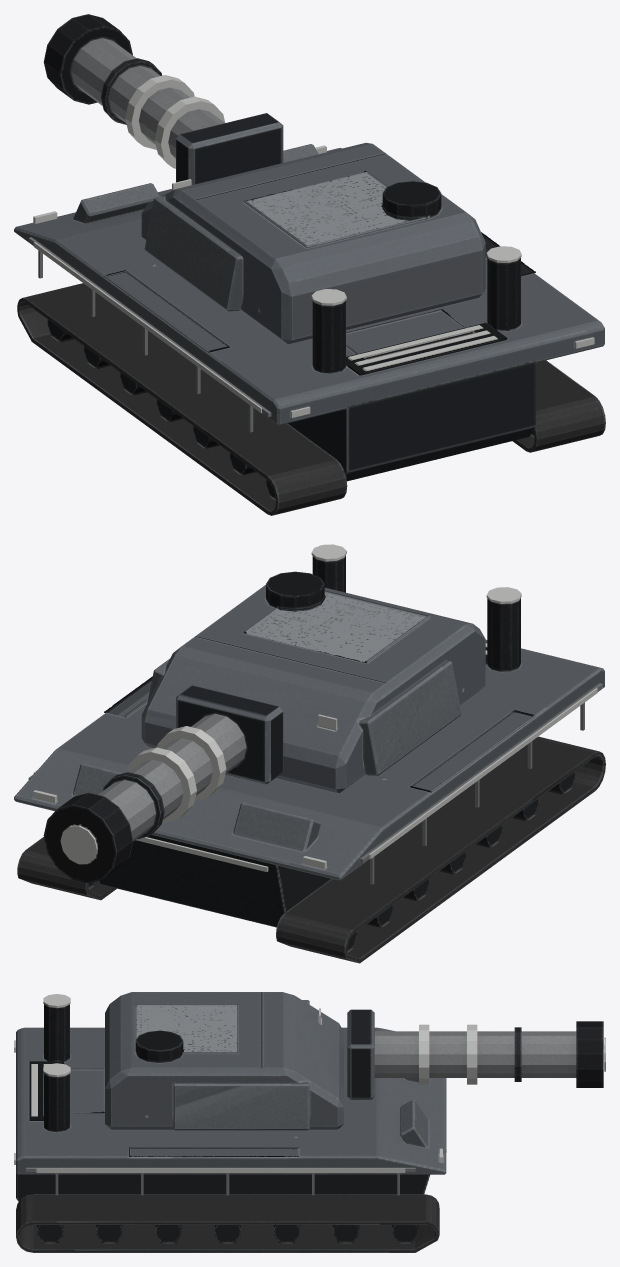
The model's file is chs_tzar.fbx.
The picture shows the model from 3 angles, top to bottom: view 1: azimuth 30°, elevation 25°; view 2: azimuth 150°, elevation 25°; view 3: azimuth 270°, elevation 25°; orthographic projection. The views are drawn at different scales.
Parts seen in each view (by area): view 1: base_bar, turret_bar, trackL_bar, trackR_bar, base_glow_running_bar, turret_glow_power_bar, base_glow_power_bar; view 2: turret_bar, base_bar, trackL_bar, turret_glow_power_bar, base_glow_running_bar, trackR_bar, turret_glow_weapon_bar, base_glow_power_bar; view 3: turret_bar, base_bar, trackR_bar, base_glow_running_bar, turret_glow_power_bar, base_glow_power_bar.
Part boxes in pixels (x1,y1,x2,y2): base_bar: [14, 144, 604, 481]; turret_bar: [43, 14, 485, 344]; trackL_bar: [17, 283, 347, 515]; trackR_bar: [512, 360, 605, 452]; base_glow_running_bar: [33, 242, 594, 417]; turret_glow_power_bar: [125, 75, 225, 168]; base_glow_power_bar: [311, 246, 521, 305]; turret_bar: [43, 571, 485, 883]; base_bar: [14, 555, 604, 927]; trackL_bar: [276, 736, 605, 963]; turret_glow_power_bar: [127, 726, 226, 822]; base_glow_running_bar: [33, 643, 597, 871]; trackR_bar: [17, 837, 116, 900]; turret_glow_weapon_bar: [60, 825, 97, 864]; base_glow_power_bar: [311, 544, 521, 603]; turret_bar: [105, 992, 603, 1130]; base_bar: [16, 1004, 446, 1201]; trackR_bar: [16, 1194, 439, 1252]; base_glow_running_bar: [14, 1040, 446, 1172]; turret_glow_power_bar: [419, 1024, 477, 1084]; base_glow_power_bar: [43, 994, 70, 1076].
Bounding box in the file's own units: 924 × 750 × 1733.
2 materials, 2 textured.
